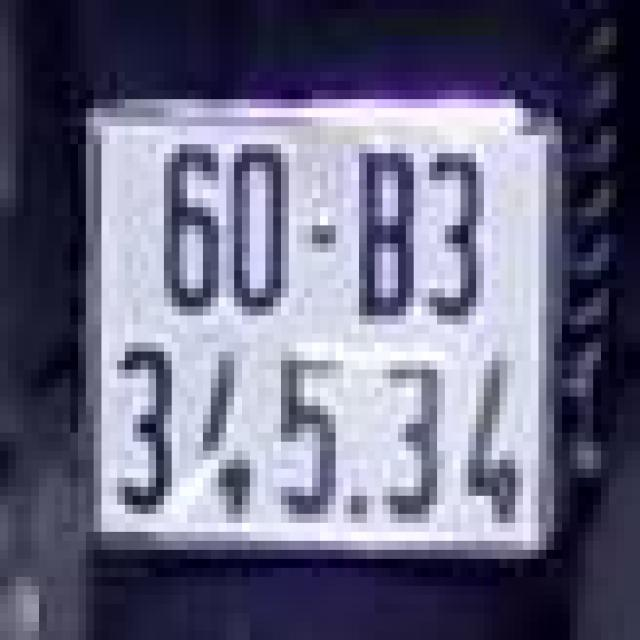0: (230, 131, 293, 329)
3: (430, 126, 500, 334), (375, 347, 445, 536), (117, 329, 180, 509)
4: (195, 324, 258, 532), (460, 347, 523, 554)
5: (270, 329, 348, 527)
6: (152, 108, 222, 325)
B: (344, 135, 422, 343)
